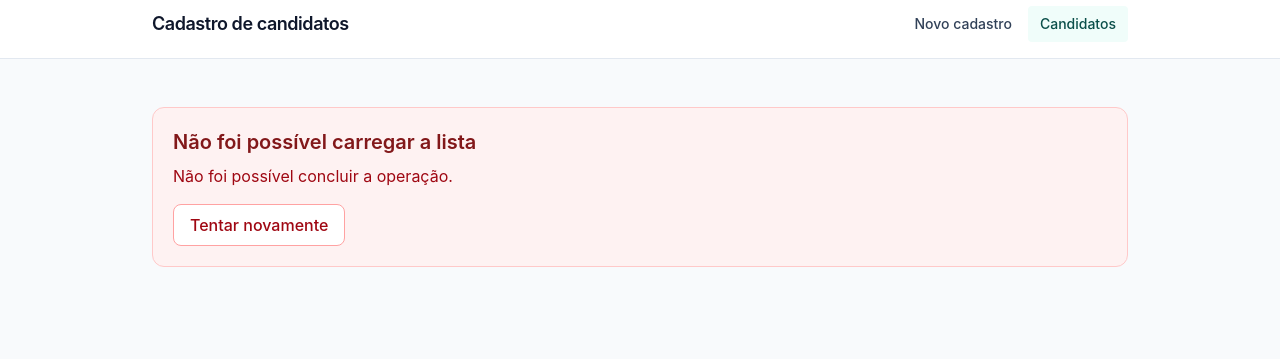
Test: CandidateListPage › apresenta erro da API e permite tentar novamente
Expected: the text "Não foi possível concluir a operação." is shown, [173,166,453,186]
Click the button "Tentar novamente".
click(259, 225)  # box [173,204,345,246]
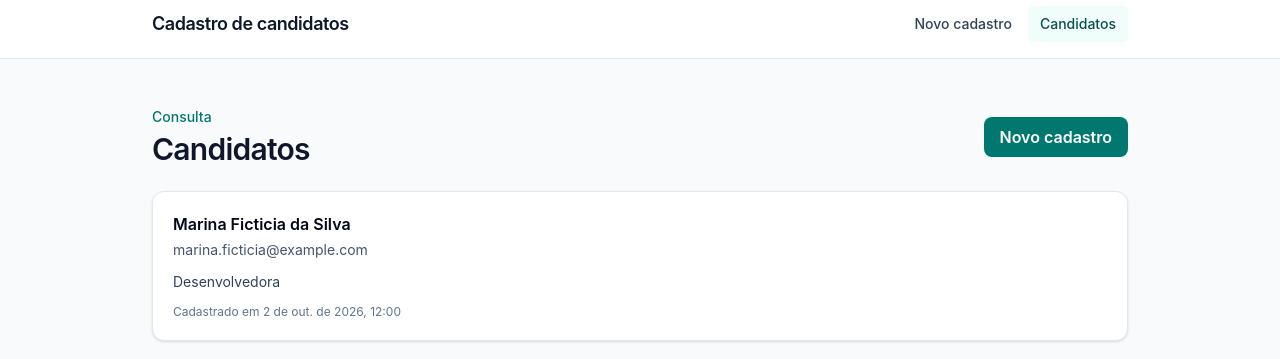
Expected: the heading "Marina Ficticia da Silva" is shown, [173,214,351,234]
